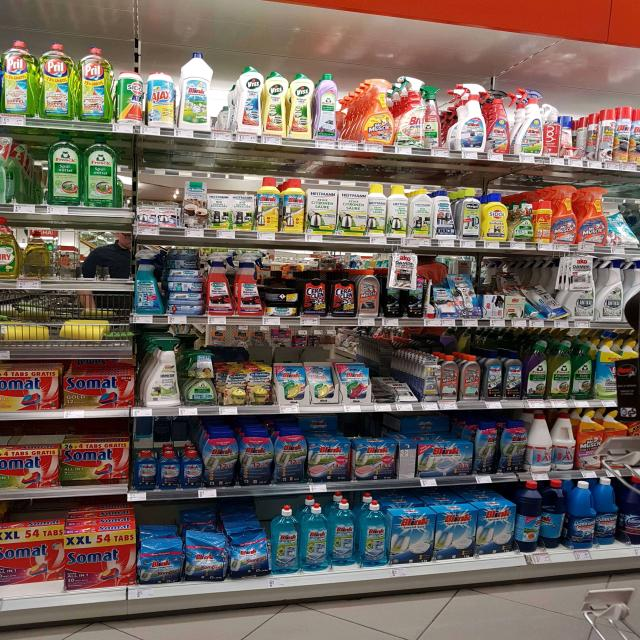empty: (33, 227, 134, 289), (142, 158, 190, 227)
